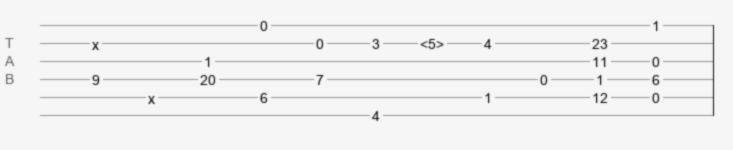0: (260, 18, 268, 28), (316, 36, 324, 46), (540, 72, 548, 82), (652, 90, 660, 100), (652, 54, 660, 64)
1: (204, 54, 212, 64), (484, 90, 492, 100), (596, 72, 604, 82), (652, 18, 660, 28)
11: (592, 54, 608, 64)
12: (592, 90, 608, 100)
20: (200, 72, 216, 82)
23: (592, 36, 608, 46)
3: (372, 36, 380, 46)
4: (372, 108, 380, 118), (484, 36, 492, 46)
6: (260, 90, 268, 100), (652, 72, 660, 82)
7: (316, 72, 324, 82)
9: (92, 72, 100, 82)
harmonic: (420, 36, 444, 46)
x: (92, 37, 99, 45), (148, 91, 155, 99)
